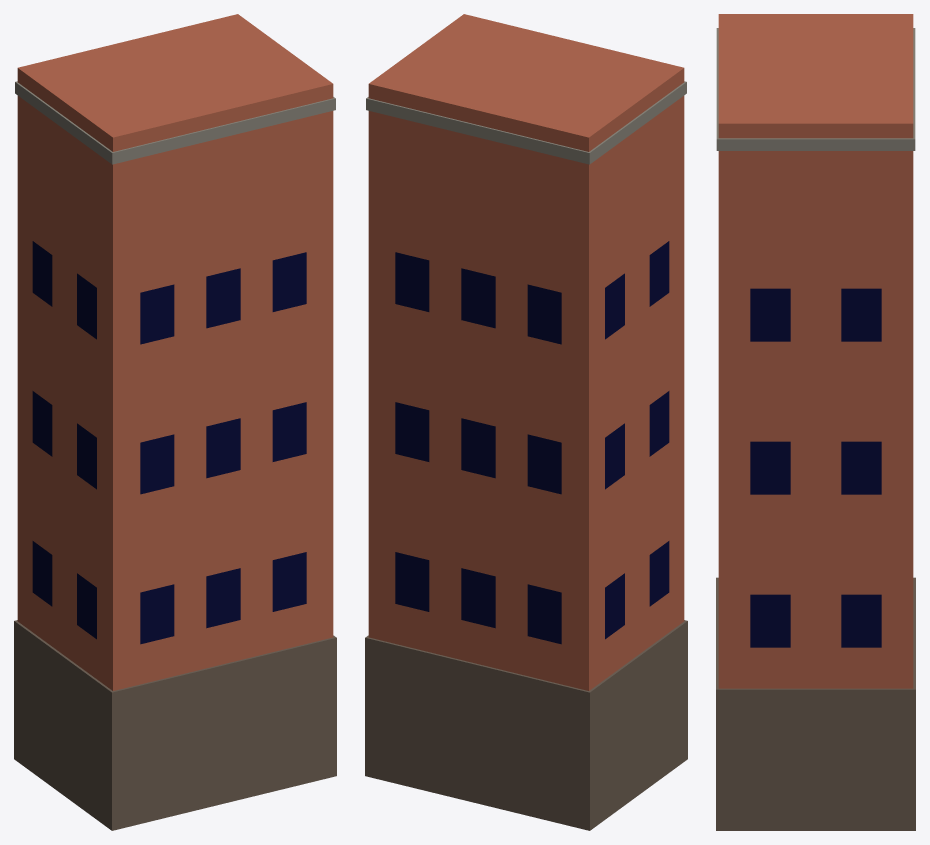
The model's file is env_building_block_b.obj.
3 renders of one model, left to right at view 1: azimuth 30°, elevation 25°; view 2: azimuth 150°, elevation 25°; view 3: azimuth 270°, elevation 25°, orthographic. The views are drawn at different scales.
Parts seen in each view (by area): view 1: BuildingBlock; view 2: BuildingBlock; view 3: BuildingBlock.
Part boxes in pixels (bbox=[...]): BuildingBlock: bbox=[14, 14, 336, 830]; BuildingBlock: bbox=[365, 14, 687, 830]; BuildingBlock: bbox=[716, 14, 915, 830].
Size of the model in its own units: 4.08 by 12 by 3.08.
